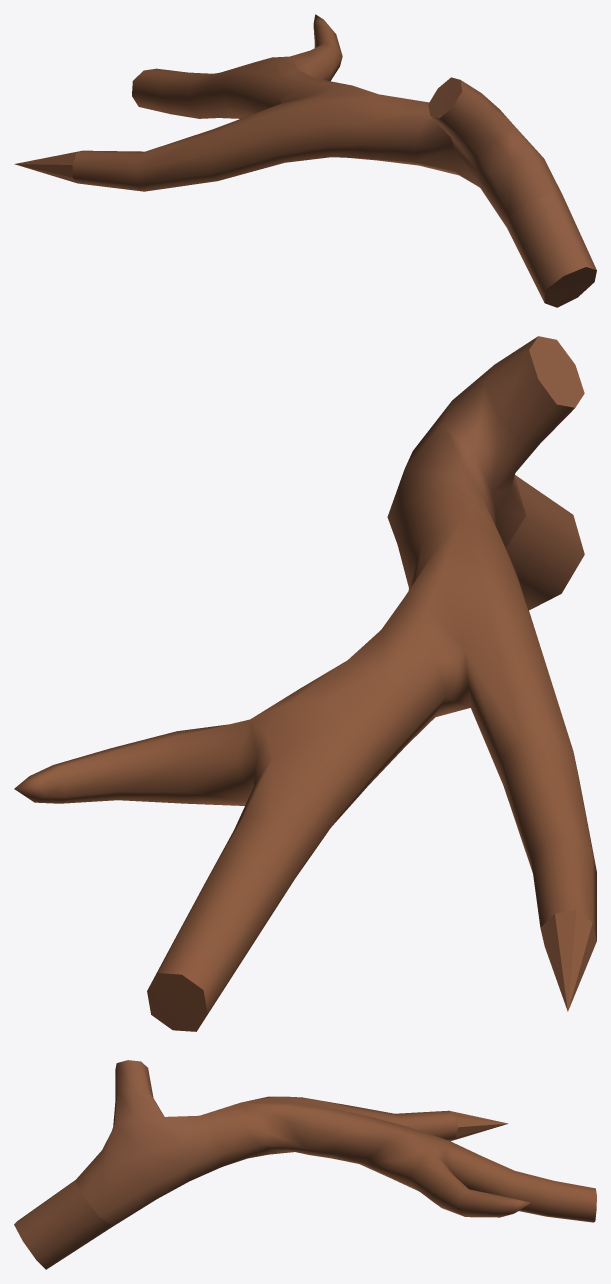
File: SM_Exterior_Tronco_03.fbx
3 renders of one model, top to bottom at view 1: azimuth 30°, elevation 25°; view 2: azimuth 150°, elevation 25°; view 3: azimuth 270°, elevation 25°, orthographic. The views are drawn at different scales.
Parts seen in each view (by area): view 1: SM_Exterior_Tronco3; view 2: SM_Exterior_Tronco3; view 3: SM_Exterior_Tronco3.
Part boxes in pixels (bbox=[...]): SM_Exterior_Tronco3: bbox=[14, 14, 596, 307]; SM_Exterior_Tronco3: bbox=[14, 336, 596, 1031]; SM_Exterior_Tronco3: bbox=[14, 1060, 596, 1269].
Size of the model in its own units: 211 by 132 by 376.
